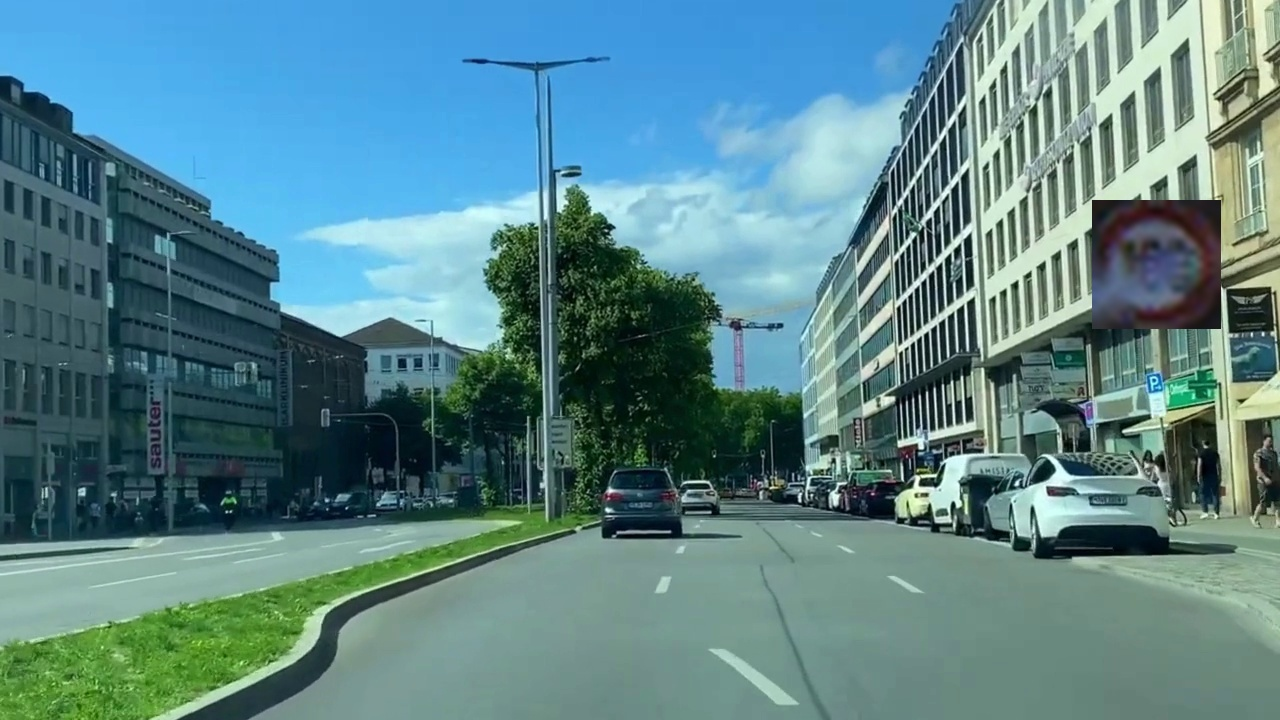Speed 100: (1092, 200, 1221, 329)
